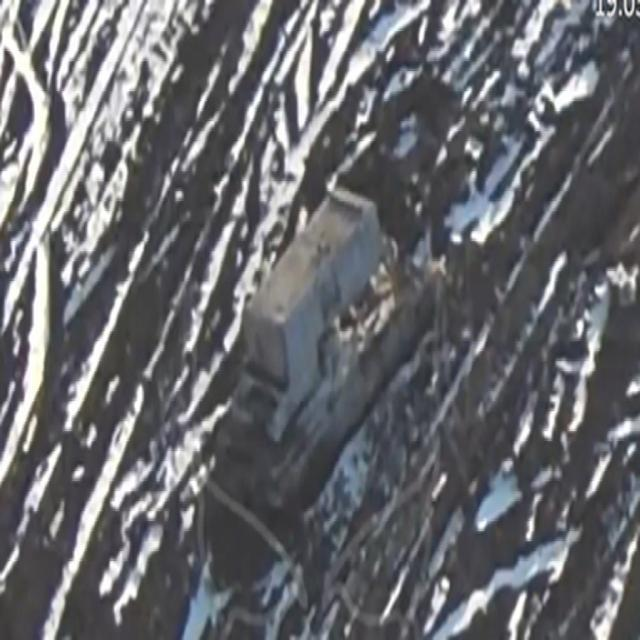MLRS: (208, 156, 432, 526)
